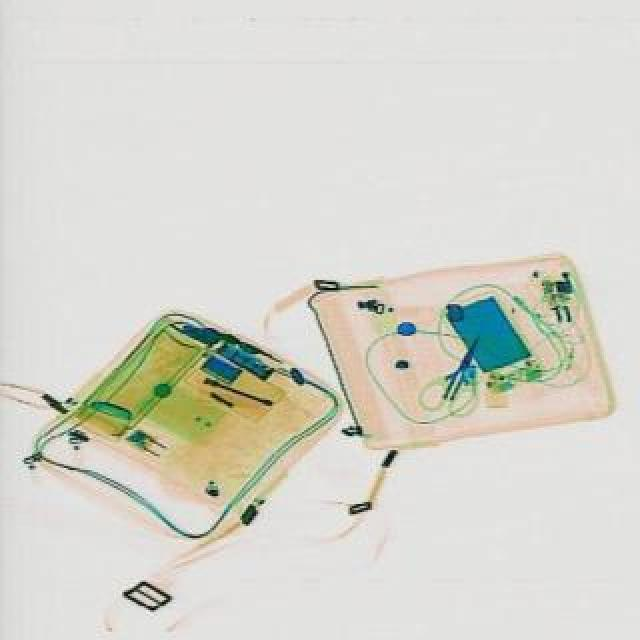knife: (434, 332, 486, 404)
